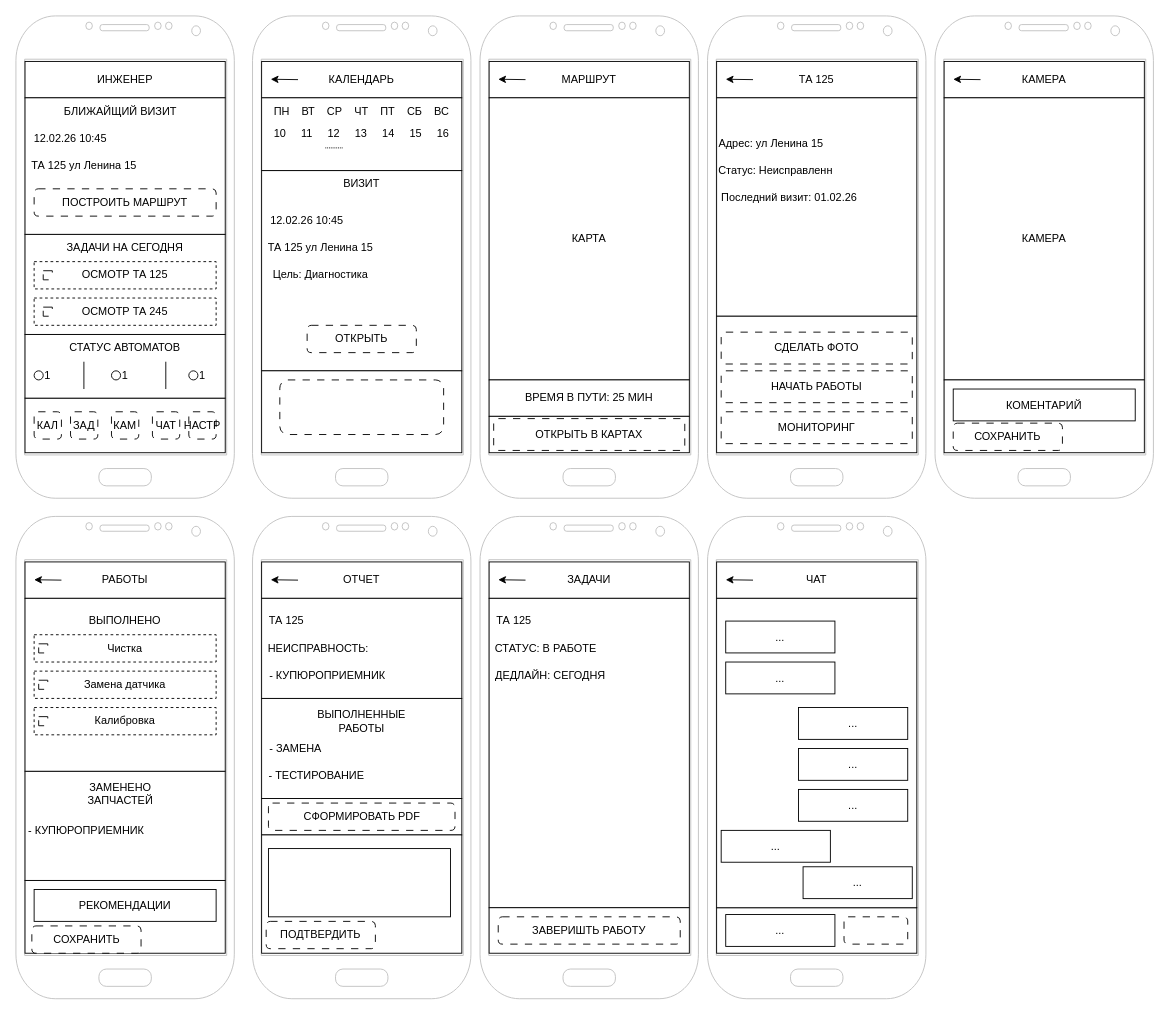
Some shapes in this 1169 by 1015 pixel diagram are drawn without their labels. The centre of each missing label's shape, as x and y in pixels:
ДОБАВИТЬ ВИЗИТ: the point at 361,407
ОТПРАВИТЬ: the point at 875,930
ПОДПИСЬ КЛИЕНТА: the point at 359,882
